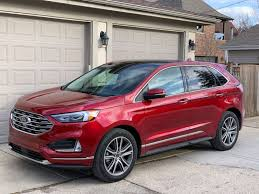Ford: (11, 61, 246, 181)
